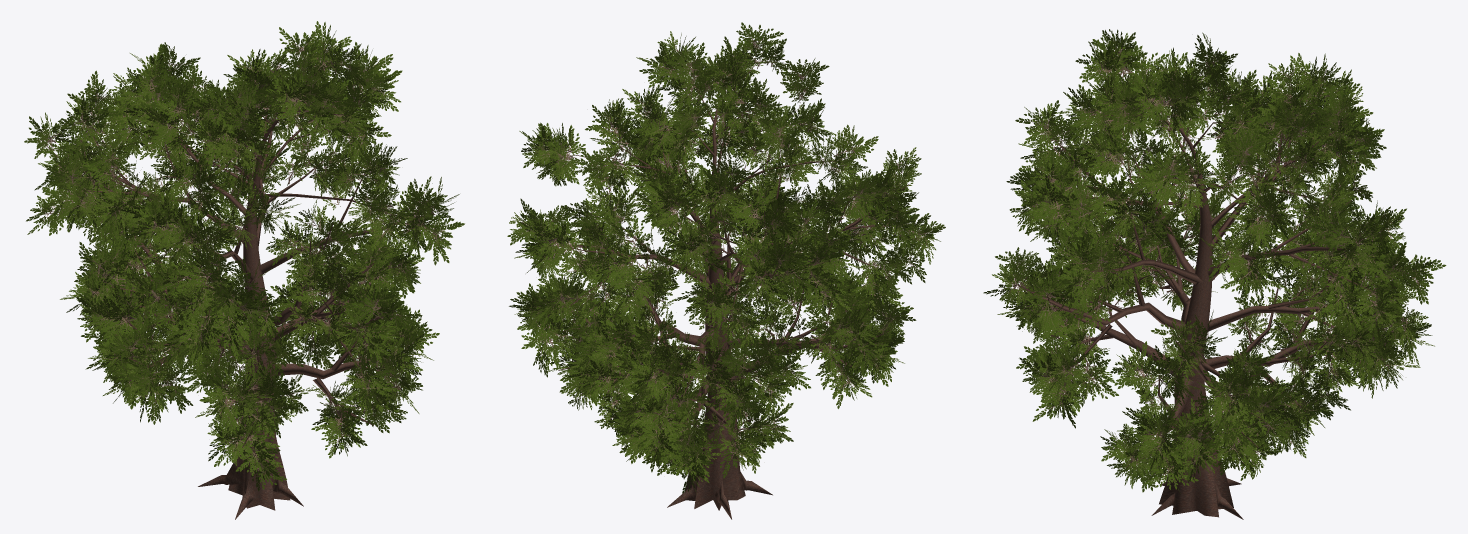
File: birch-green.gltf
3 views of the same model, side by side, from view 1: azimuth 30°, elevation 25°; view 2: azimuth 150°, elevation 25°; view 3: azimuth 270°, elevation 25° (orthographic). The views are drawn at different scales.
Parts seen in each view (by area): view 1: Sweet birch Green; view 2: Sweet birch Green; view 3: Sweet birch Green.
Part boxes in pixels (bbox=[...]): Sweet birch Green: bbox=[24, 21, 464, 519]; Sweet birch Green: bbox=[507, 22, 945, 519]; Sweet birch Green: bbox=[983, 29, 1446, 519].
Size of the model in its own units: 465 by 552 by 499.
Materials: 2 (2 with a texture image).
